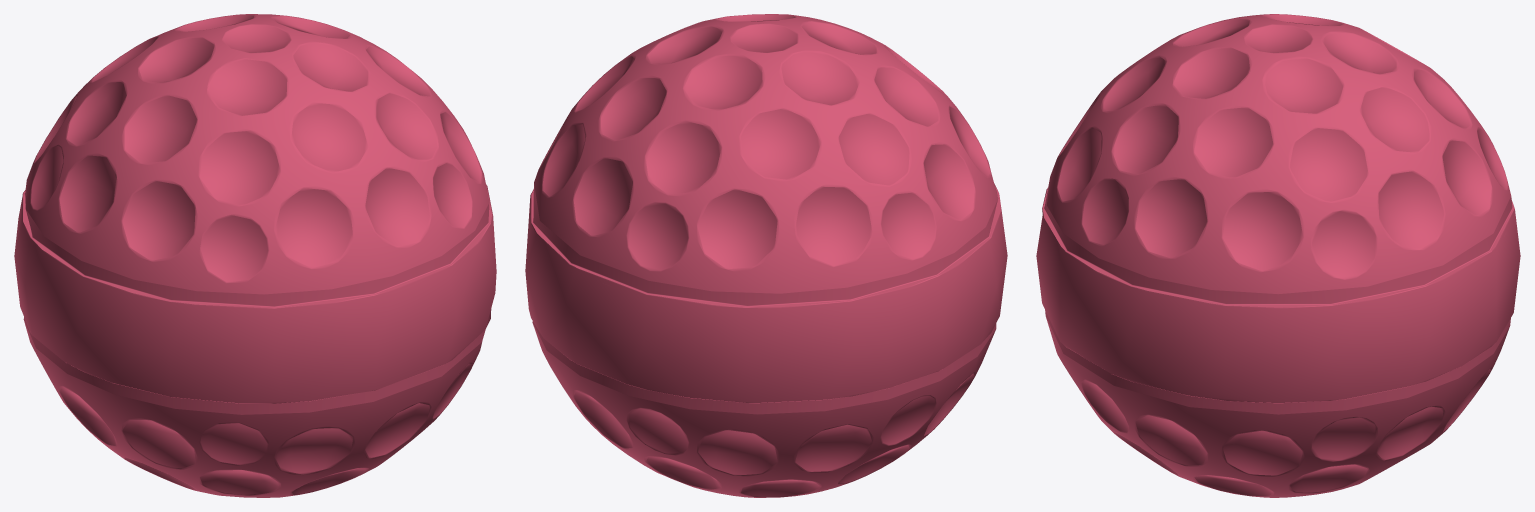
Rendered from ChangeUpBallRed.dae.
3 views of the same model, side by side, from view 1: azimuth 30°, elevation 25°; view 2: azimuth 150°, elevation 25°; view 3: azimuth 270°, elevation 25° (orthographic).
Parts seen in each view (by area): view 1: BallRed; view 2: BallRed; view 3: BallRed.
Part boxes in pixels (left/top/right/bottom): BallRed: left=14, top=14, right=496, bottom=497; BallRed: left=525, top=14, right=1007, bottom=497; BallRed: left=1036, top=14, right=1520, bottom=497.
Bounding box in the file's own units: 0.1561 × 0.16 × 0.1583.
